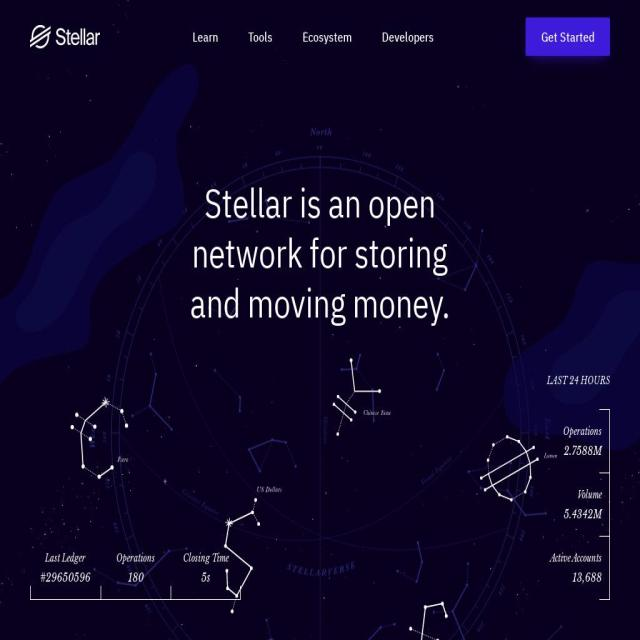button: (366, 0, 448, 73), (287, 0, 367, 73), (177, 0, 233, 73), (232, 0, 287, 73), (526, 16, 610, 56), (30, 24, 100, 48)
heading: (175, 178, 465, 328)
image: (0, 0, 640, 640), (89, 127, 550, 640), (0, 64, 640, 408), (504, 256, 640, 452), (224, 486, 282, 613), (480, 435, 557, 502), (70, 397, 128, 479), (332, 358, 390, 436), (378, 601, 448, 640), (30, 24, 100, 48)
text: (381, 25, 434, 48), (302, 25, 352, 48), (547, 373, 610, 389), (550, 550, 602, 567), (550, 569, 602, 586), (40, 550, 91, 567), (40, 569, 91, 586), (110, 550, 160, 567), (110, 569, 160, 586), (180, 550, 230, 567), (180, 569, 230, 586), (563, 423, 602, 440), (563, 443, 602, 459), (564, 487, 602, 503), (564, 506, 602, 522), (192, 25, 218, 48), (248, 25, 272, 48)
